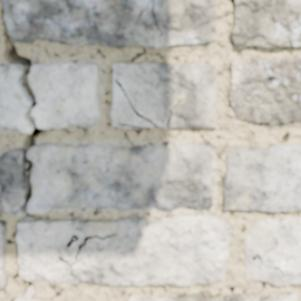brick: (17, 216, 230, 285), (3, 0, 215, 48), (113, 63, 217, 127), (225, 145, 300, 212), (230, 59, 300, 124), (245, 217, 300, 285), (231, 0, 300, 49), (111, 81, 150, 126), (130, 294, 300, 300), (0, 222, 6, 288)
broken_brick: (28, 144, 213, 215), (31, 61, 100, 129), (0, 65, 31, 134), (0, 149, 23, 217)
crack: (0, 0, 44, 300), (57, 233, 119, 283), (114, 78, 159, 129), (250, 237, 300, 277), (135, 0, 163, 39), (167, 99, 182, 128)
